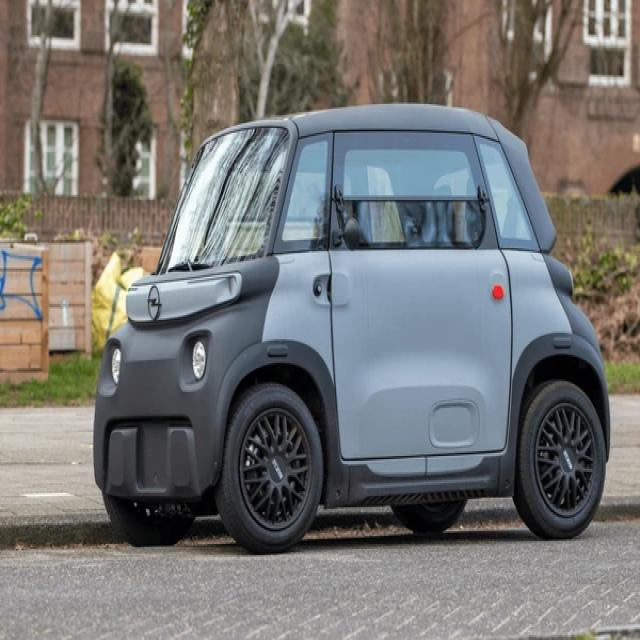opel: (143, 287, 167, 318)
